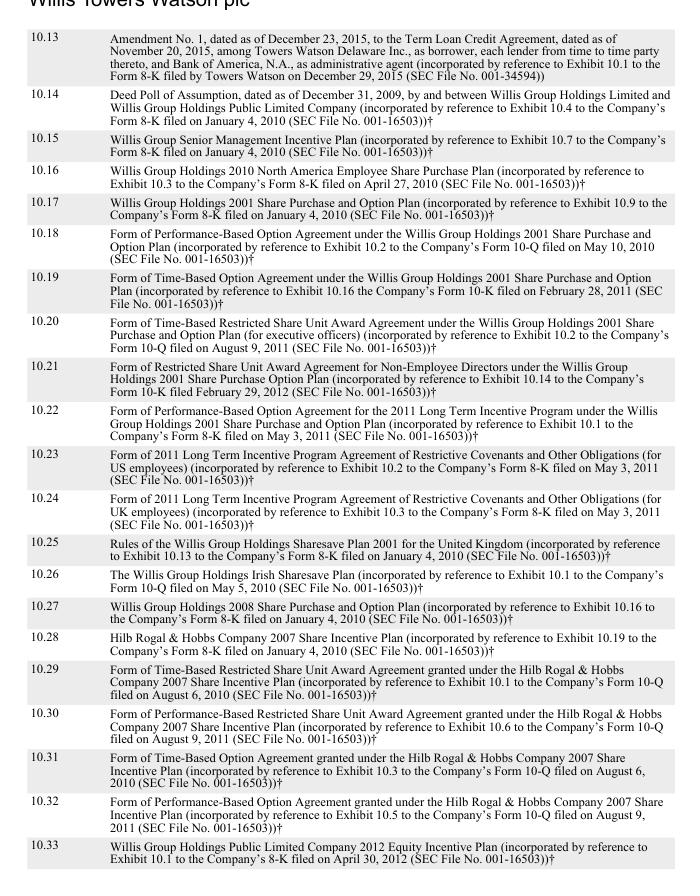table: (29, 29, 669, 864)
table column: (83, 29, 669, 864), (29, 29, 83, 864)
table row: (29, 29, 669, 84), (29, 222, 669, 267), (29, 443, 669, 488), (29, 746, 669, 791), (29, 84, 669, 128), (29, 267, 669, 311), (29, 311, 669, 355), (29, 355, 669, 399), (29, 399, 669, 443), (29, 488, 669, 532), (29, 658, 669, 702), (29, 702, 669, 746), (29, 791, 669, 835), (29, 159, 669, 191), (29, 563, 669, 595), (29, 626, 669, 658), (29, 128, 669, 159), (29, 191, 669, 222), (29, 532, 669, 563), (29, 595, 669, 626), (29, 835, 669, 864)
